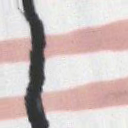crackTip: (15, 1, 52, 128)
